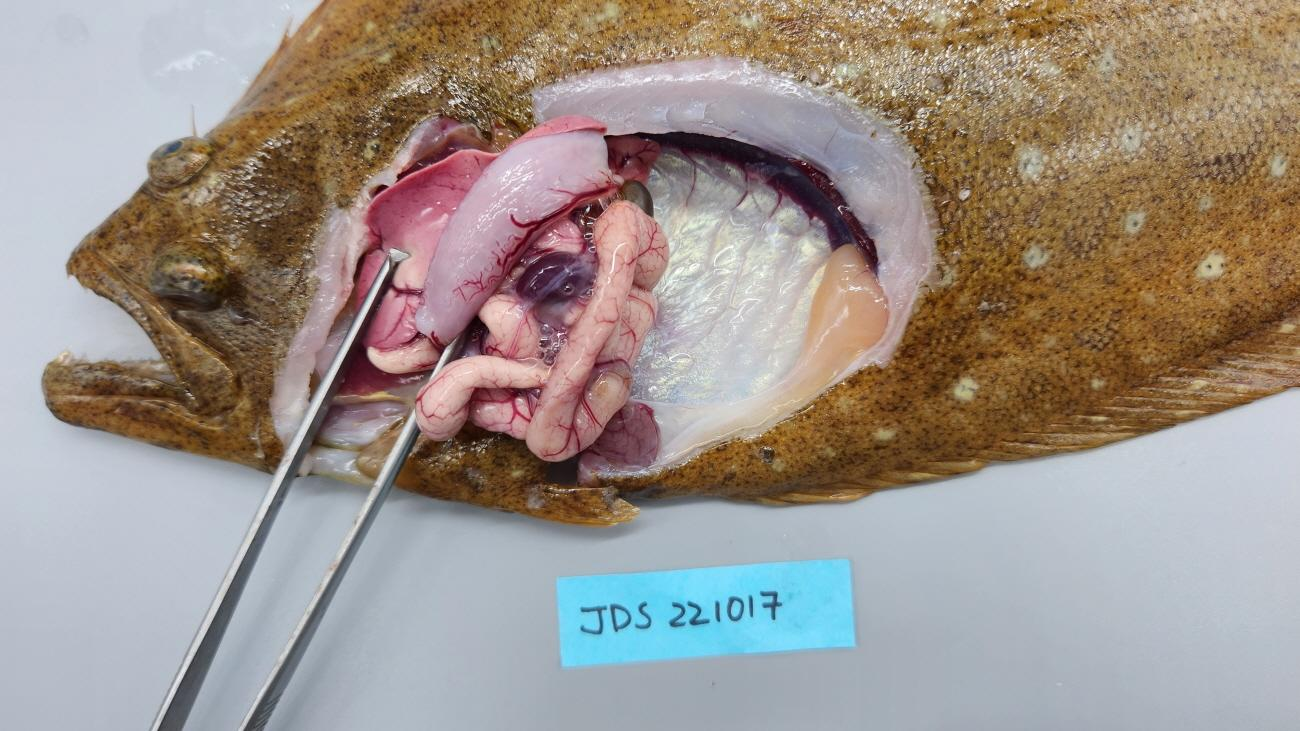POINN: (524, 199, 669, 464)
POSPN: (516, 249, 595, 306)
